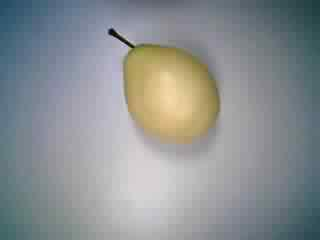pear: (97, 19, 229, 154)
